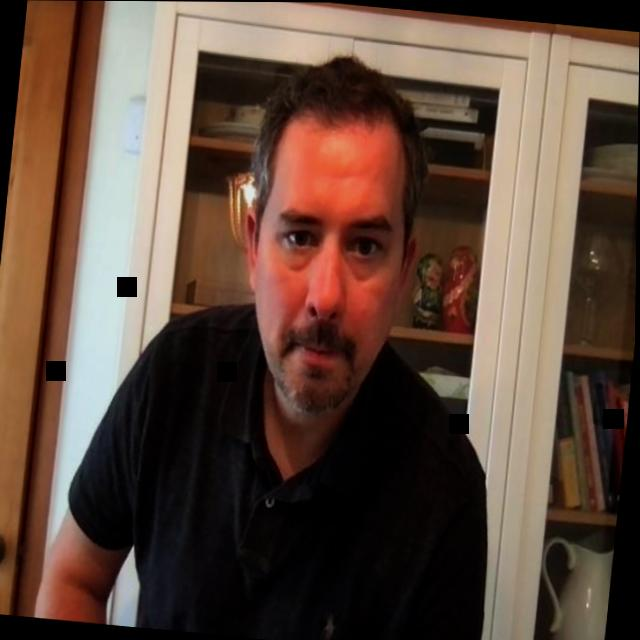NO-Mask: (223, 49, 437, 423)
